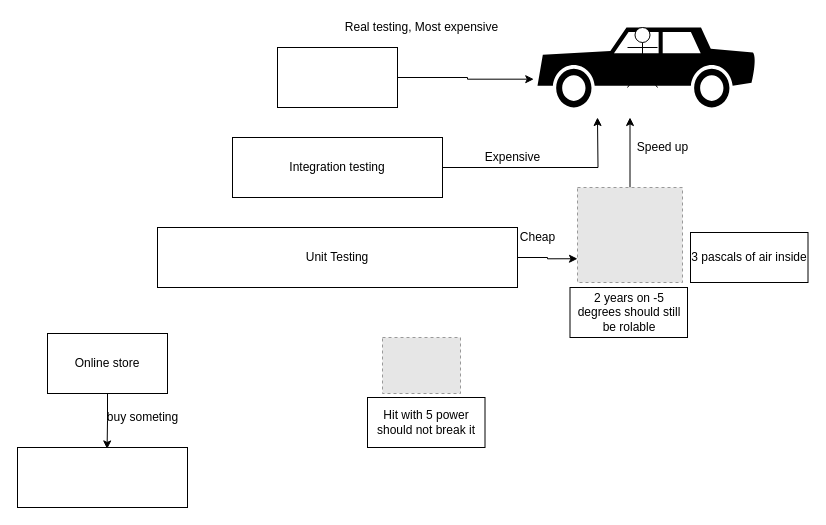
Image size: 826x525. Some labels were removed from this diagram. Grey dashed boxes stand in for pictures. The centre of each missing label's shape, as x and y in pixels:
"Actor" goes at point (642, 57).
"DecreaseBalance() DeacreaseProductQuantity() NotifySystem()" goes at point (102, 477).
"UI testing" goes at point (337, 77).
